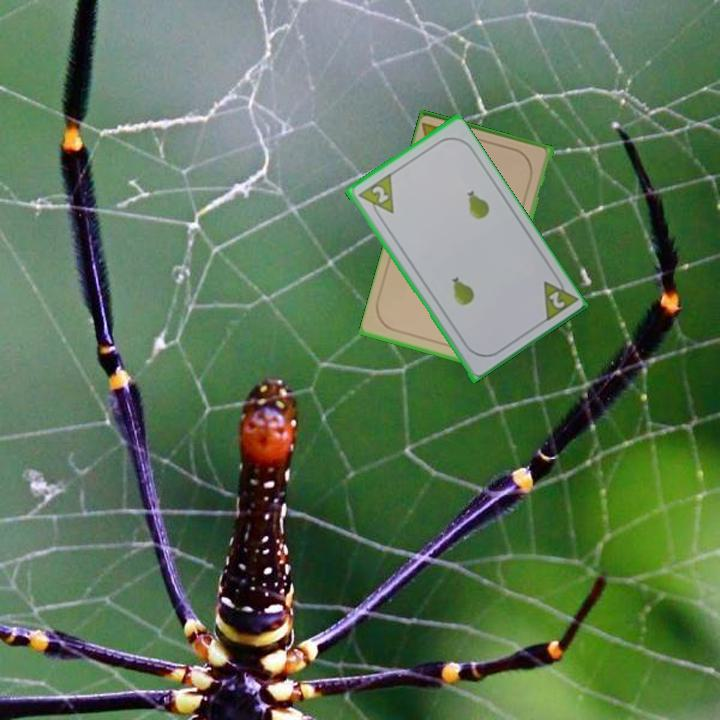2p: (353, 171, 397, 223), (539, 270, 579, 325)
